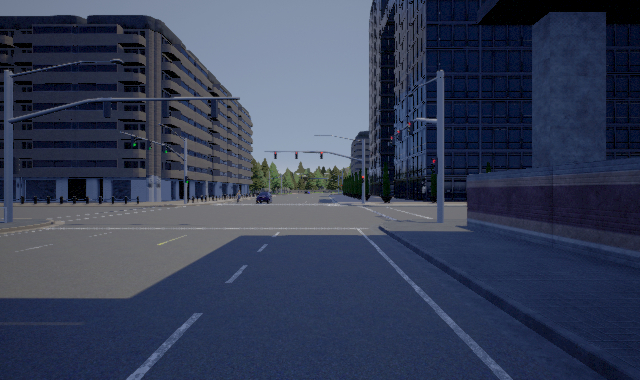traffic_light: (431, 157, 438, 174), (407, 121, 413, 135), (131, 136, 137, 146), (390, 135, 395, 146), (397, 130, 402, 141), (147, 140, 152, 150), (163, 145, 168, 153), (320, 152, 323, 159), (295, 152, 298, 159), (274, 152, 277, 159), (362, 176, 364, 183)
vehicle: (254, 190, 271, 204)
